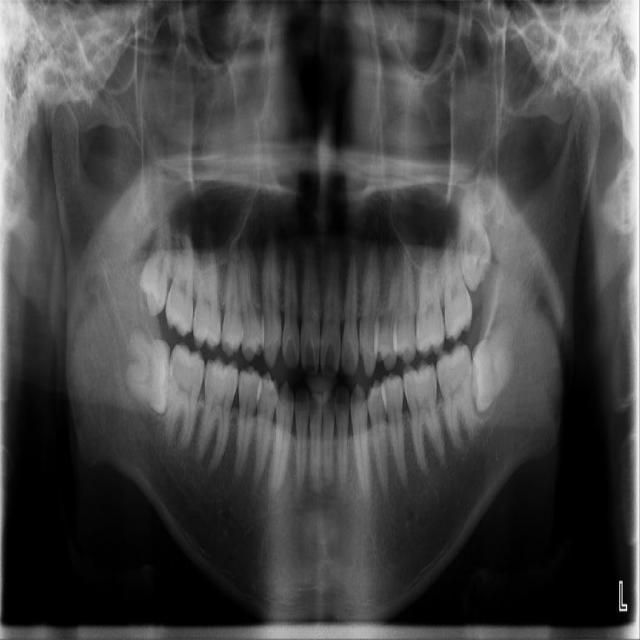3M ESPE Implant: (137, 206, 175, 321)
73: (598, 582, 604, 594)
BioHorizons Implant: (443, 223, 473, 345)
BioLife Implant: (461, 190, 493, 293)
Biomet 3i Implant: (470, 322, 516, 412)
Blue Sky Bio Implant: (435, 339, 478, 454)
Caries: (165, 220, 195, 339)
Implant: (161, 340, 208, 453)
Keystone Dental Implant: (126, 329, 175, 415)
